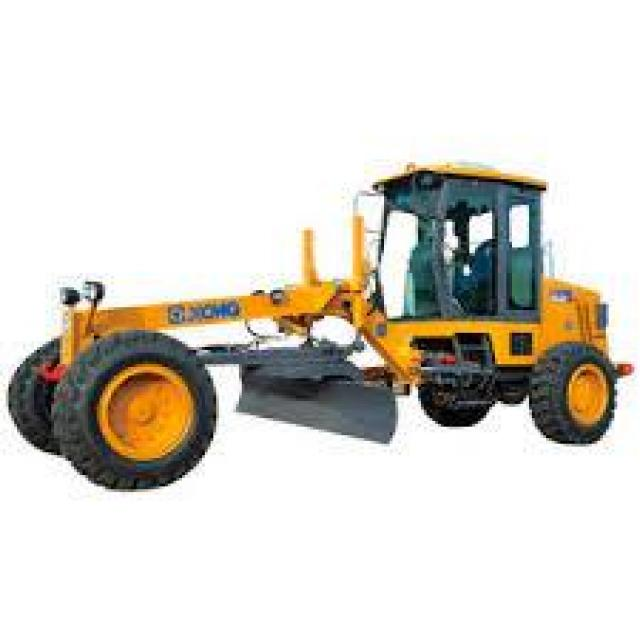Grader: (11, 120, 634, 500)
